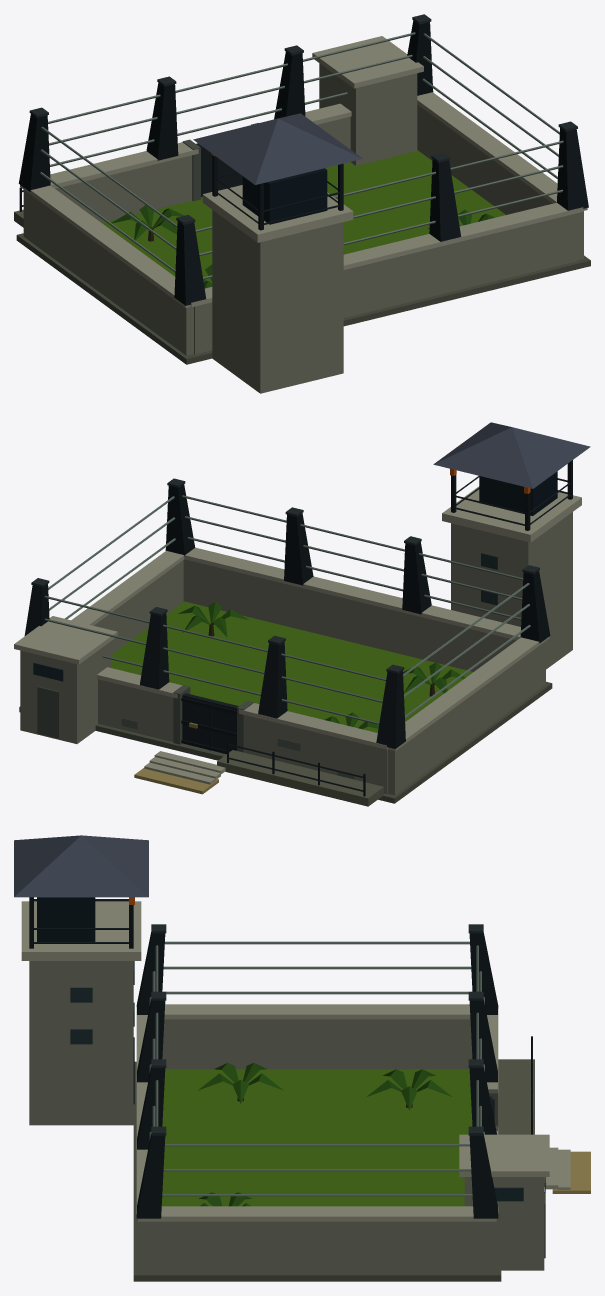
The model's file is SM_RaptorPen.fbx.
3 renders of one model, top to bottom at view 1: azimuth 30°, elevation 25°; view 2: azimuth 150°, elevation 25°; view 3: azimuth 270°, elevation 25°, orthographic. The views are drawn at different scales.
Visible parts, largest first — view 1: SM_RaptorPen • FBX; view 2: SM_RaptorPen • FBX; view 3: SM_RaptorPen • FBX.
Part boxes in pixels (x1=…): SM_RaptorPen • FBX: x1=14, y1=14, x2=590, y2=393; SM_RaptorPen • FBX: x1=14, y1=422, x2=590, y2=806; SM_RaptorPen • FBX: x1=14, y1=835, x2=590, y2=1281.
Bounding box in the file's own units: 3300 × 3765 × 1930.
